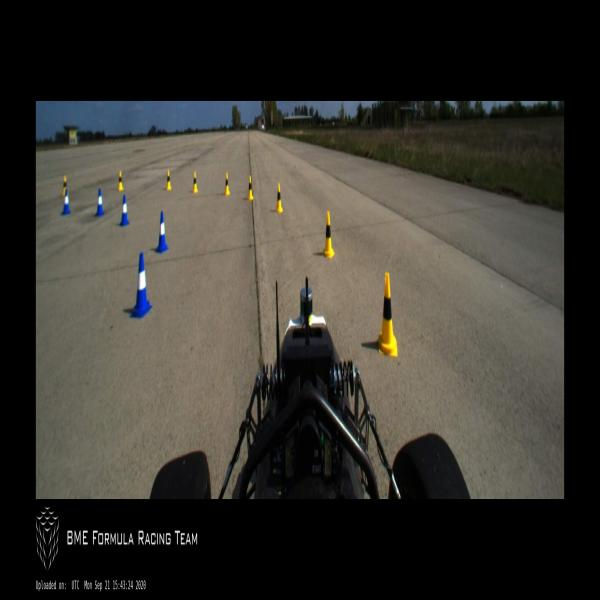blue_cone: (130, 252, 152, 318), (155, 210, 168, 254), (120, 196, 129, 227), (96, 188, 104, 216), (63, 190, 70, 215)
yellow_cone: (379, 273, 397, 357), (322, 211, 334, 259), (276, 182, 283, 213), (248, 176, 254, 202), (62, 175, 68, 197), (118, 170, 124, 190), (225, 172, 230, 195), (193, 172, 198, 193), (166, 170, 171, 190)
